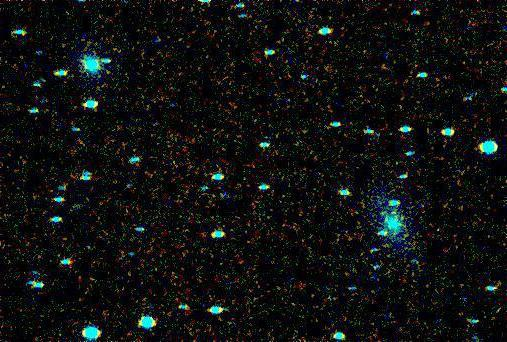star: (378, 199, 408, 229)
